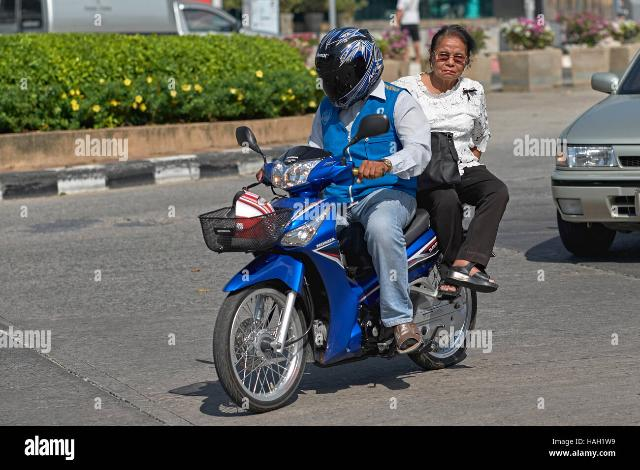helm: (316, 27, 385, 111), (431, 25, 473, 81)
motor: (202, 112, 479, 415)
